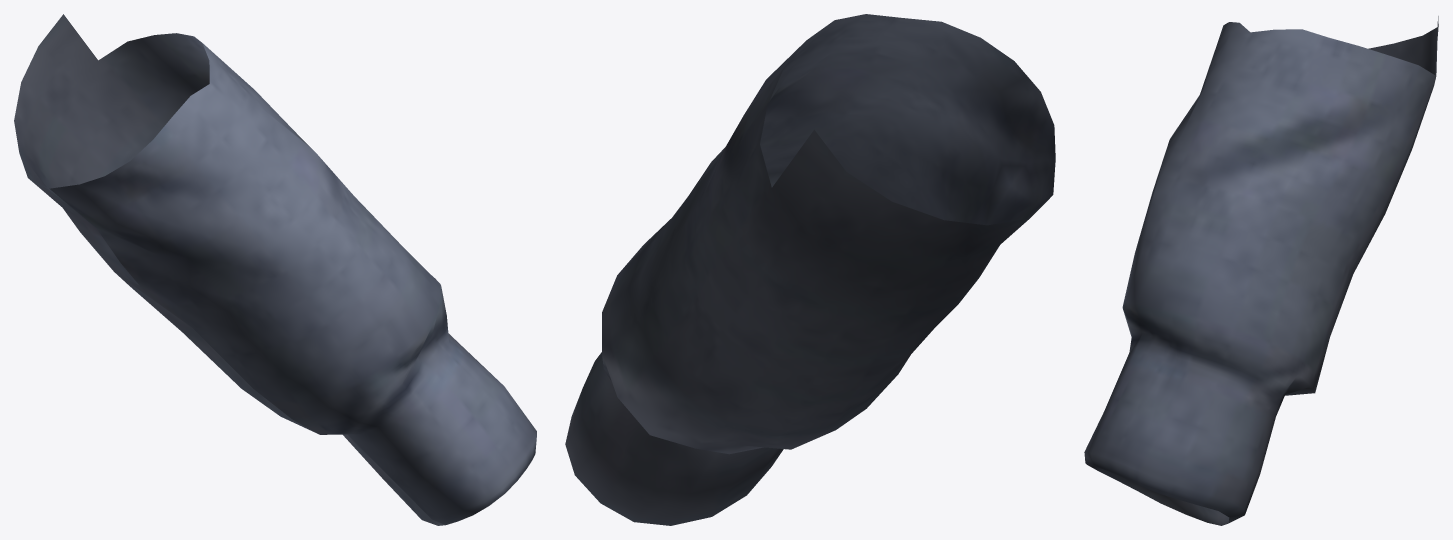
The model's file is ante_izq.obj.
3 renders of one model, left to right at view 1: azimuth 30°, elevation 25°; view 2: azimuth 150°, elevation 25°; view 3: azimuth 270°, elevation 25°, orthographic. The views are drawn at different scales.
Visible parts, largest first — view 1: node_id803.004; view 2: node_id803.004; view 3: node_id803.004.
Part boxes in pixels (x1=…): node_id803.004: x1=14, y1=14, x2=536, y2=525; node_id803.004: x1=565, y1=14, x2=1055, y2=525; node_id803.004: x1=1084, y1=16, x2=1438, y2=525.
Bounding box in the file's own units: 0.2227 × 0.2392 × 0.1852.
Materials: 1 (1 with a texture image).
